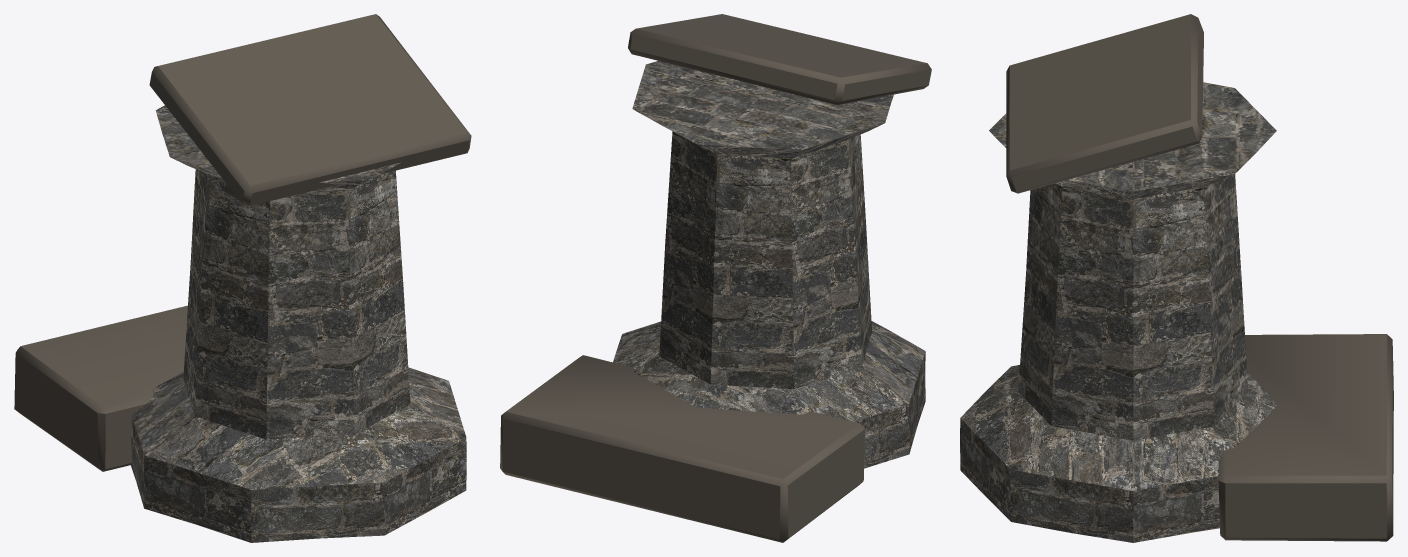
File: stone-pulpit-v01.glb
3 renders of one model, left to right at view 1: azimuth 30°, elevation 25°; view 2: azimuth 150°, elevation 25°; view 3: azimuth 270°, elevation 25°, orthographic. The views are drawn at different scales.
Parts seen in each view (by area): view 1: stone-pulpit; view 2: stone-pulpit; view 3: stone-pulpit.
Boxes of the visible parts, x1,y1,x2,y2 form: stone-pulpit: [14, 14, 471, 542]; stone-pulpit: [500, 14, 931, 542]; stone-pulpit: [960, 14, 1393, 542].
Size of the model in its own units: 1.21 by 1.55 by 1.51.
1 material, 1 textured.
